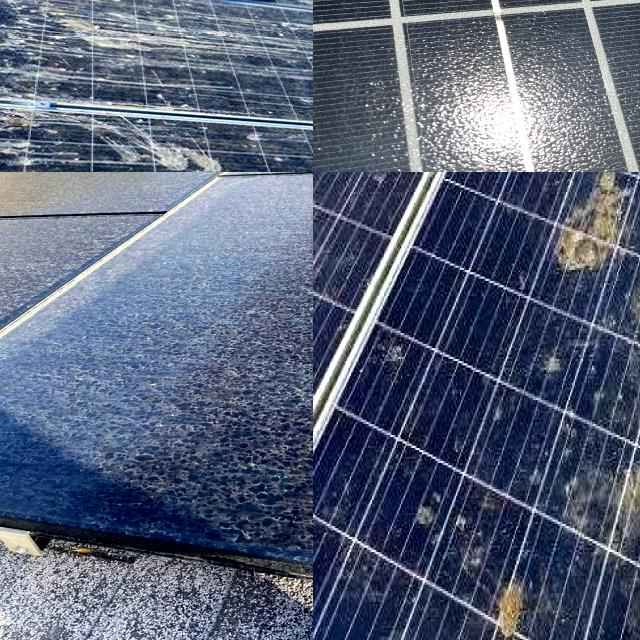bird: (549, 172, 631, 283), (15, 0, 170, 46), (572, 454, 640, 552), (402, 478, 477, 552), (478, 562, 541, 640), (96, 132, 210, 172), (530, 340, 594, 410), (0, 61, 87, 93), (377, 328, 416, 383), (598, 172, 640, 222), (0, 133, 49, 162), (526, 172, 562, 199), (534, 172, 567, 196), (313, 172, 325, 213)
crack: (313, 0, 640, 172)
dust: (75, 297, 233, 522), (236, 318, 313, 533), (215, 180, 310, 292), (0, 341, 59, 501), (2, 172, 192, 214), (0, 219, 28, 299)
